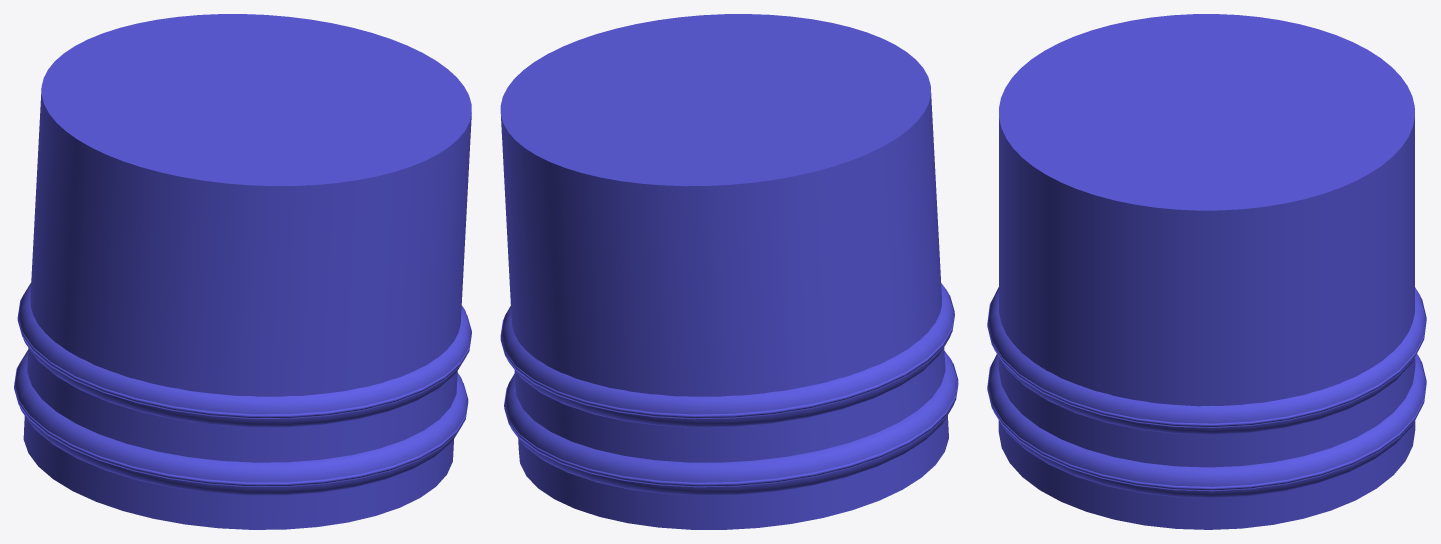
Rendered from bombilla164.obj.
3 views of the same model, side by side, from view 1: azimuth 30°, elevation 25°; view 2: azimuth 150°, elevation 25°; view 3: azimuth 270°, elevation 25° (orthographic). The views are drawn at different scales.
Visible parts, largest first — view 1: Cylinder001, Cylinder004, Cylinder003, Cylinder006, Cylinder002; view 2: Cylinder001, Cylinder004, Cylinder003, Cylinder006, Cylinder002; view 3: Cylinder001, Cylinder004, Cylinder002, Cylinder003, Cylinder006.
Boxes of the visible parts, left/top/right/bottom form: Cylinder001: left=30, top=14, right=471, bottom=396; Cylinder004: left=14, top=350, right=468, bottom=495; Cylinder003: left=27, top=348, right=457, bottom=462; Cylinder006: left=23, top=416, right=453, bottom=529; Cylinder002: left=17, top=282, right=471, bottom=427; Cylinder001: left=500, top=14, right=941, bottom=396; Cylinder004: left=504, top=351, right=958, bottom=495; Cylinder003: left=514, top=347, right=945, bottom=462; Cylinder006: left=518, top=415, right=948, bottom=529; Cylinder002: left=500, top=283, right=954, bottom=427; Cylinder001: left=999, top=14, right=1414, bottom=406; Cylinder004: left=987, top=354, right=1426, bottom=498; Cylinder002: left=987, top=287, right=1426, bottom=434; Cylinder003: left=998, top=357, right=1415, bottom=467; Cylinder006: left=998, top=420, right=1415, bottom=529.
Bounding box in the file's own units: 73.05 × 63.29 × 72.21.
